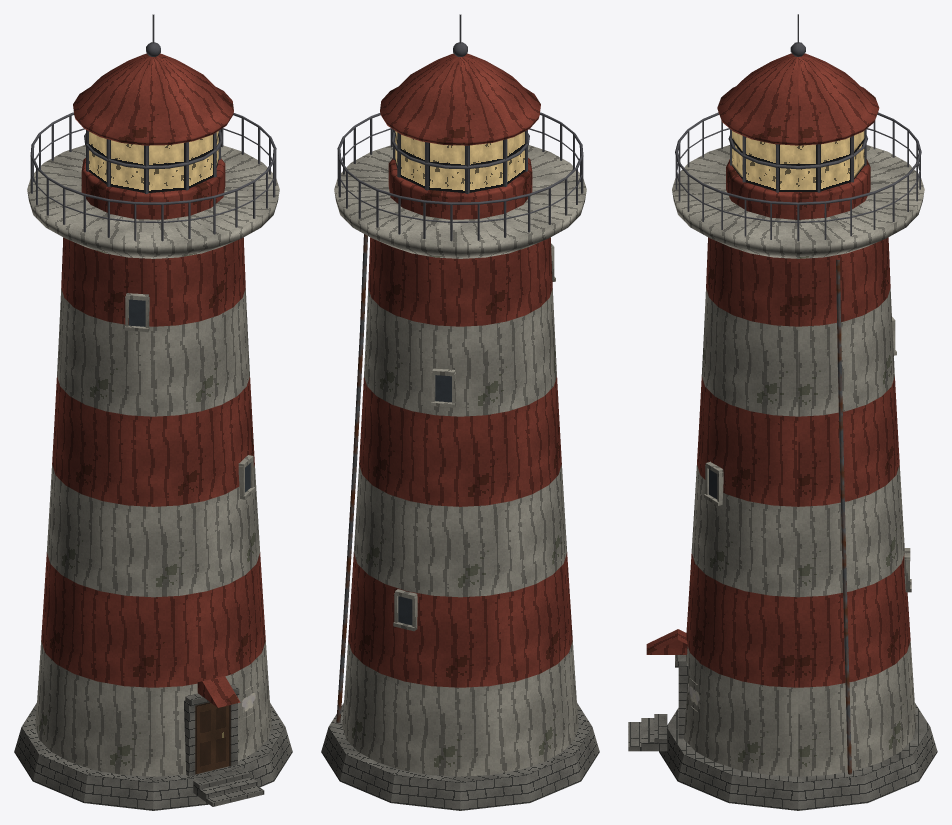
File: lighthouse.glb
3 views of the same model, side by side, from view 1: azimuth 30°, elevation 25°; view 2: azimuth 150°, elevation 25°; view 3: azimuth 270°, elevation 25° (orthographic).
Parts seen in each view (by area): view 1: tower-col, detail; view 2: tower-col, detail; view 3: tower-col, detail.
Part boxes in pixels (x1=…): tower-col: x1=14, y1=145, x2=292, y2=810; detail: x1=30, y1=14, x2=276, y2=776; tower-col: x1=321, y1=145, x2=599, y2=810; detail: x1=336, y1=14, x2=583, y2=722; tower-col: x1=628, y1=145, x2=937, y2=810; detail: x1=646, y1=14, x2=921, y2=774.
Size of what is drawn, in the model's own units: 7.5 by 21.9 by 8.32.
10 materials, 10 textured.
